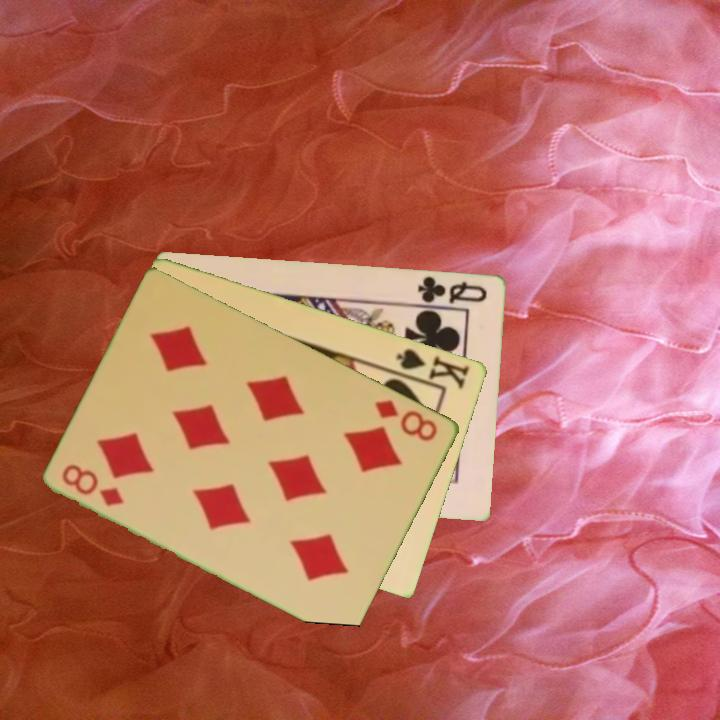8d: (371, 396, 441, 445), (59, 460, 128, 509)
Ks: (389, 345, 473, 392)
Qc: (411, 272, 490, 309)
